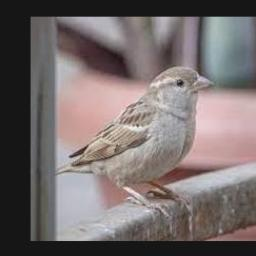Sparrow: (55, 66, 215, 217)
